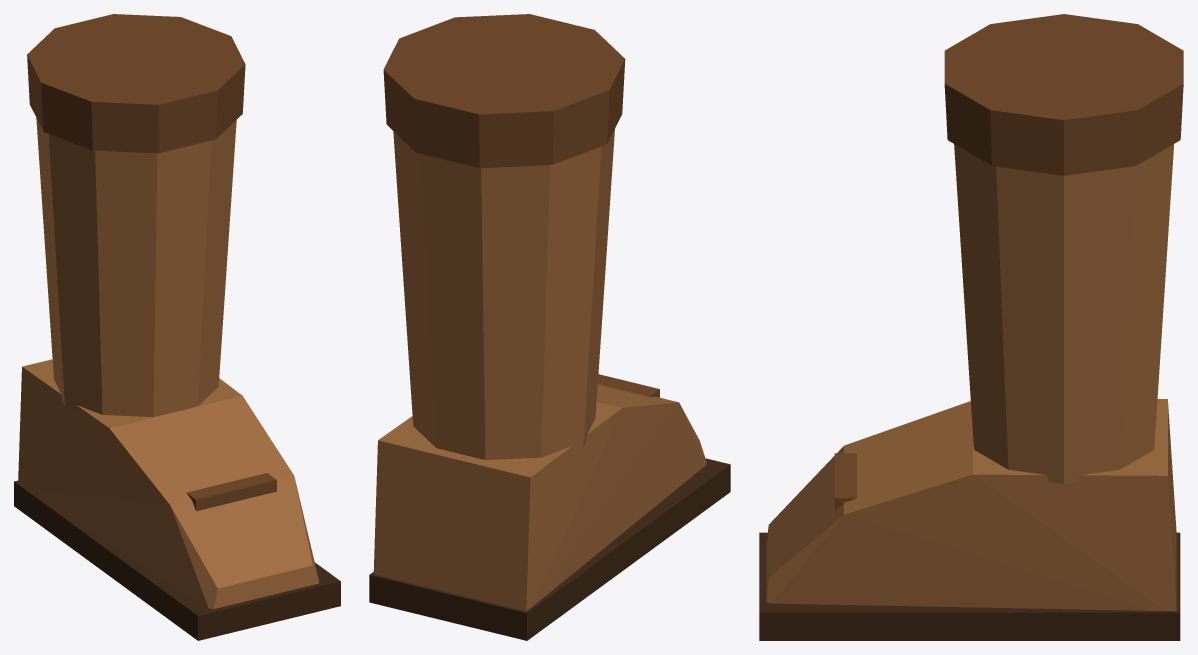
The model's file is gear_boots_leather_leg_r.glb.
The picture shows the model from 3 angles, left to right: view 1: azimuth 30°, elevation 25°; view 2: azimuth 150°, elevation 25°; view 3: azimuth 270°, elevation 25°; orthographic projection. The views are drawn at different scales.
Parts seen in each view (by area): view 1: gear_boots_leather_leg_r; view 2: gear_boots_leather_leg_r; view 3: gear_boots_leather_leg_r.
Part boxes in pixels (x1,y1,x2,y2): gear_boots_leather_leg_r: (14,14,340,640); gear_boots_leather_leg_r: (369,14,730,640); gear_boots_leather_leg_r: (759,14,1183,640).
Size of the model in its own units: 0.16 by 0.375 by 0.2701.
